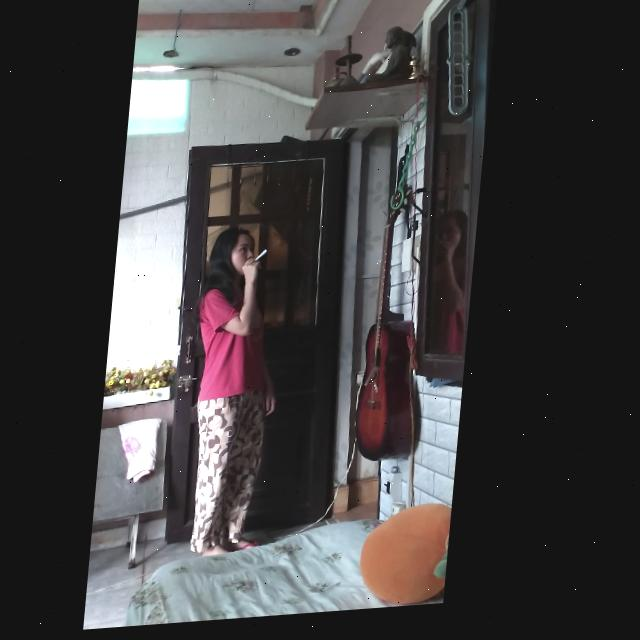cigarette: (260, 253, 273, 265)
